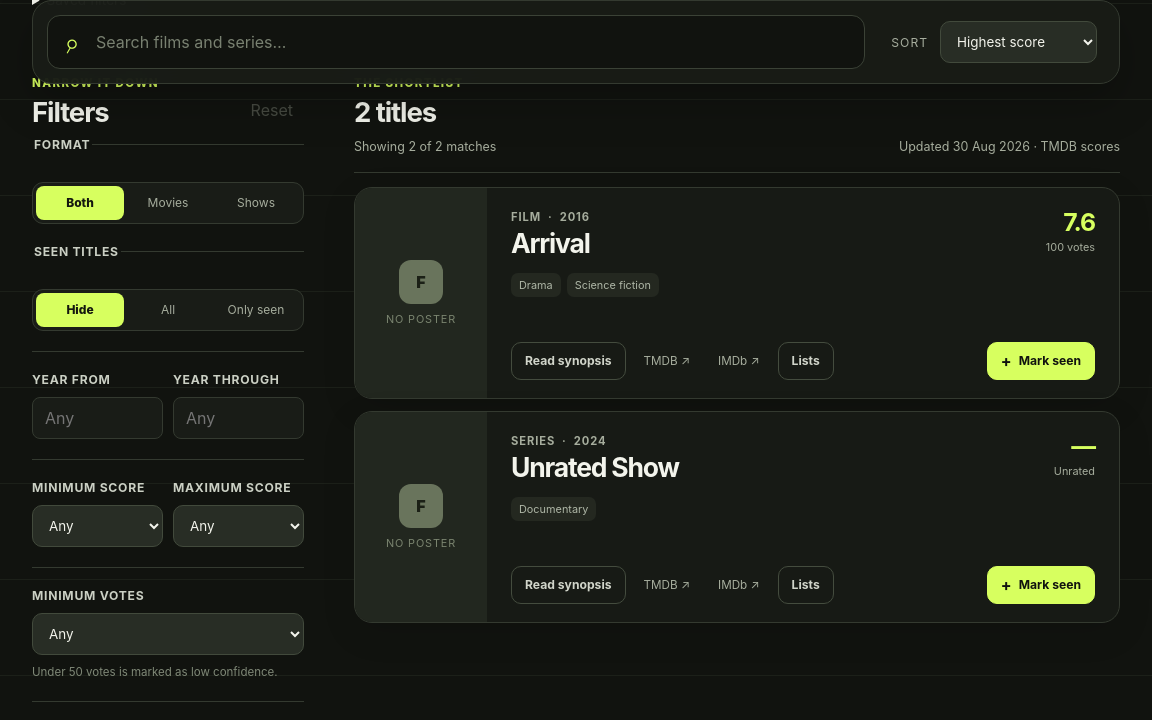
Test: Flixate app › loads details lazily and hides a title after it is marked seen
(page scrolled)
Expected: the heading "Arrival" is shown, [511, 229, 590, 257]
Step 1. Click the button "Read synopsis" below "Arrival" → (568, 361), box [511, 342, 626, 380]
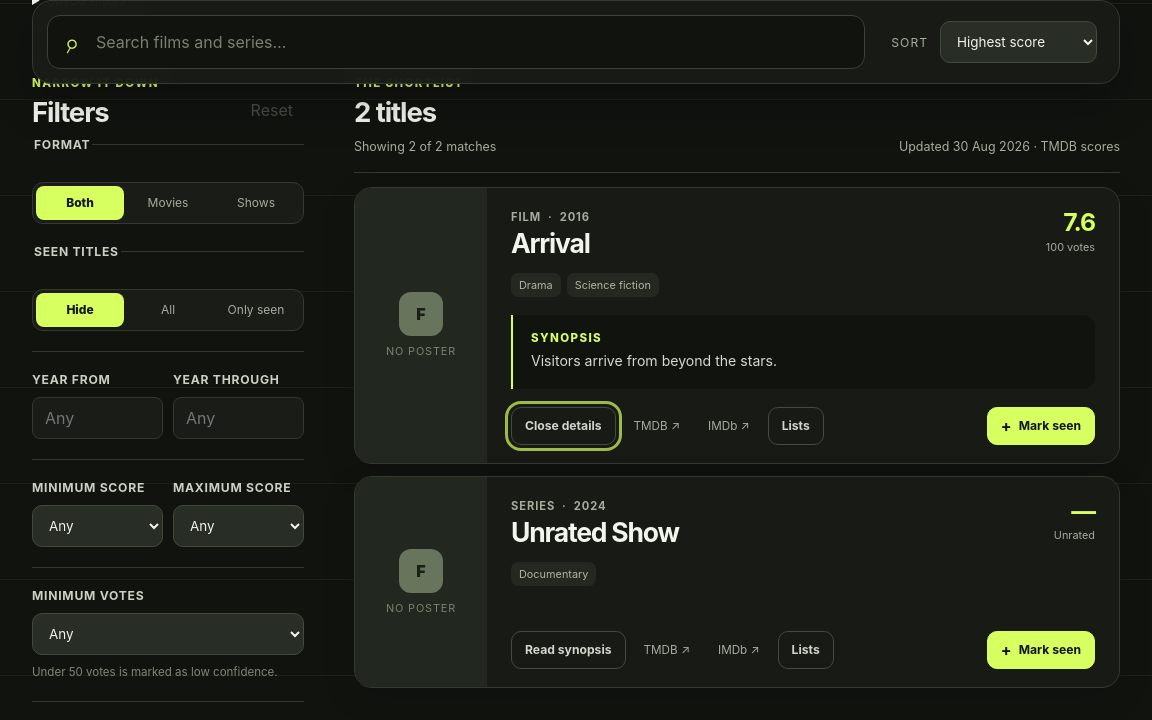
Expected: the text "Visitors arrive from beyond the stars." is shown, [531, 352, 777, 369]
Step 2. Click the button with aria-label "Mark Arrival as seen" → (1041, 426), box [987, 406, 1095, 444]
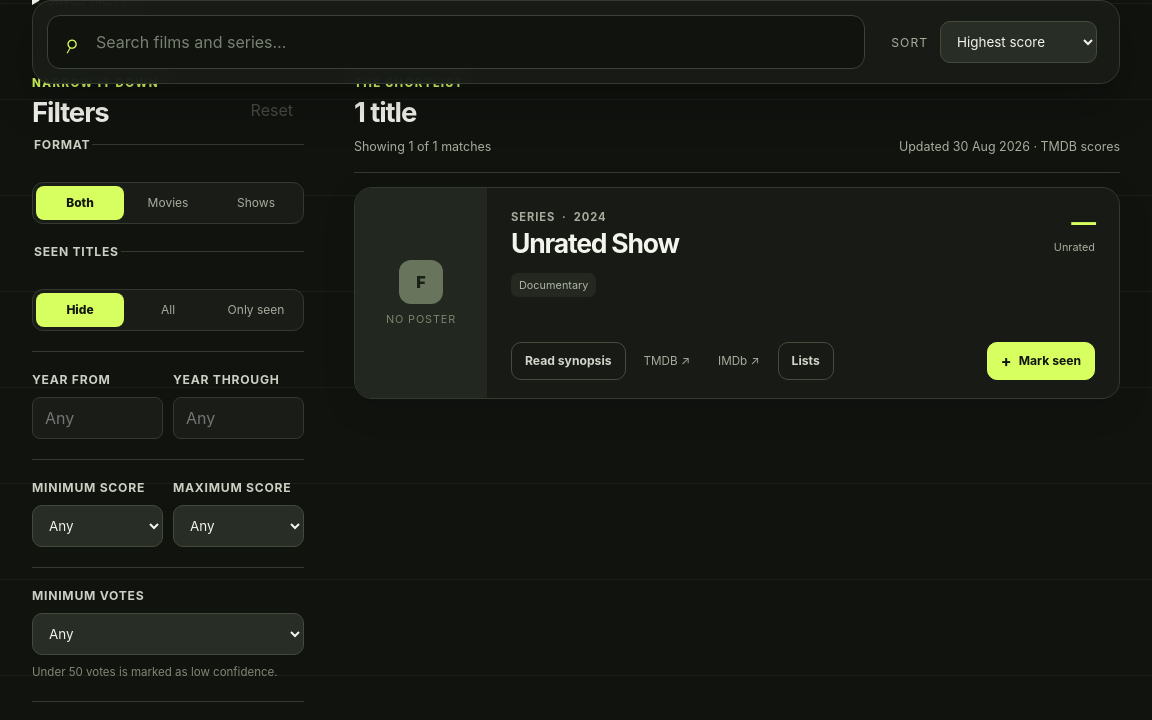
Expected: the heading "Arrival" is gone
